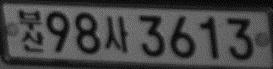1: (198, 16, 223, 59)
3: (226, 17, 253, 61), (139, 15, 166, 57)
6: (170, 15, 195, 58)
8: (75, 11, 100, 54)
9: (45, 10, 70, 52)
부산_V: (17, 9, 45, 53)
사: (103, 15, 127, 51)
